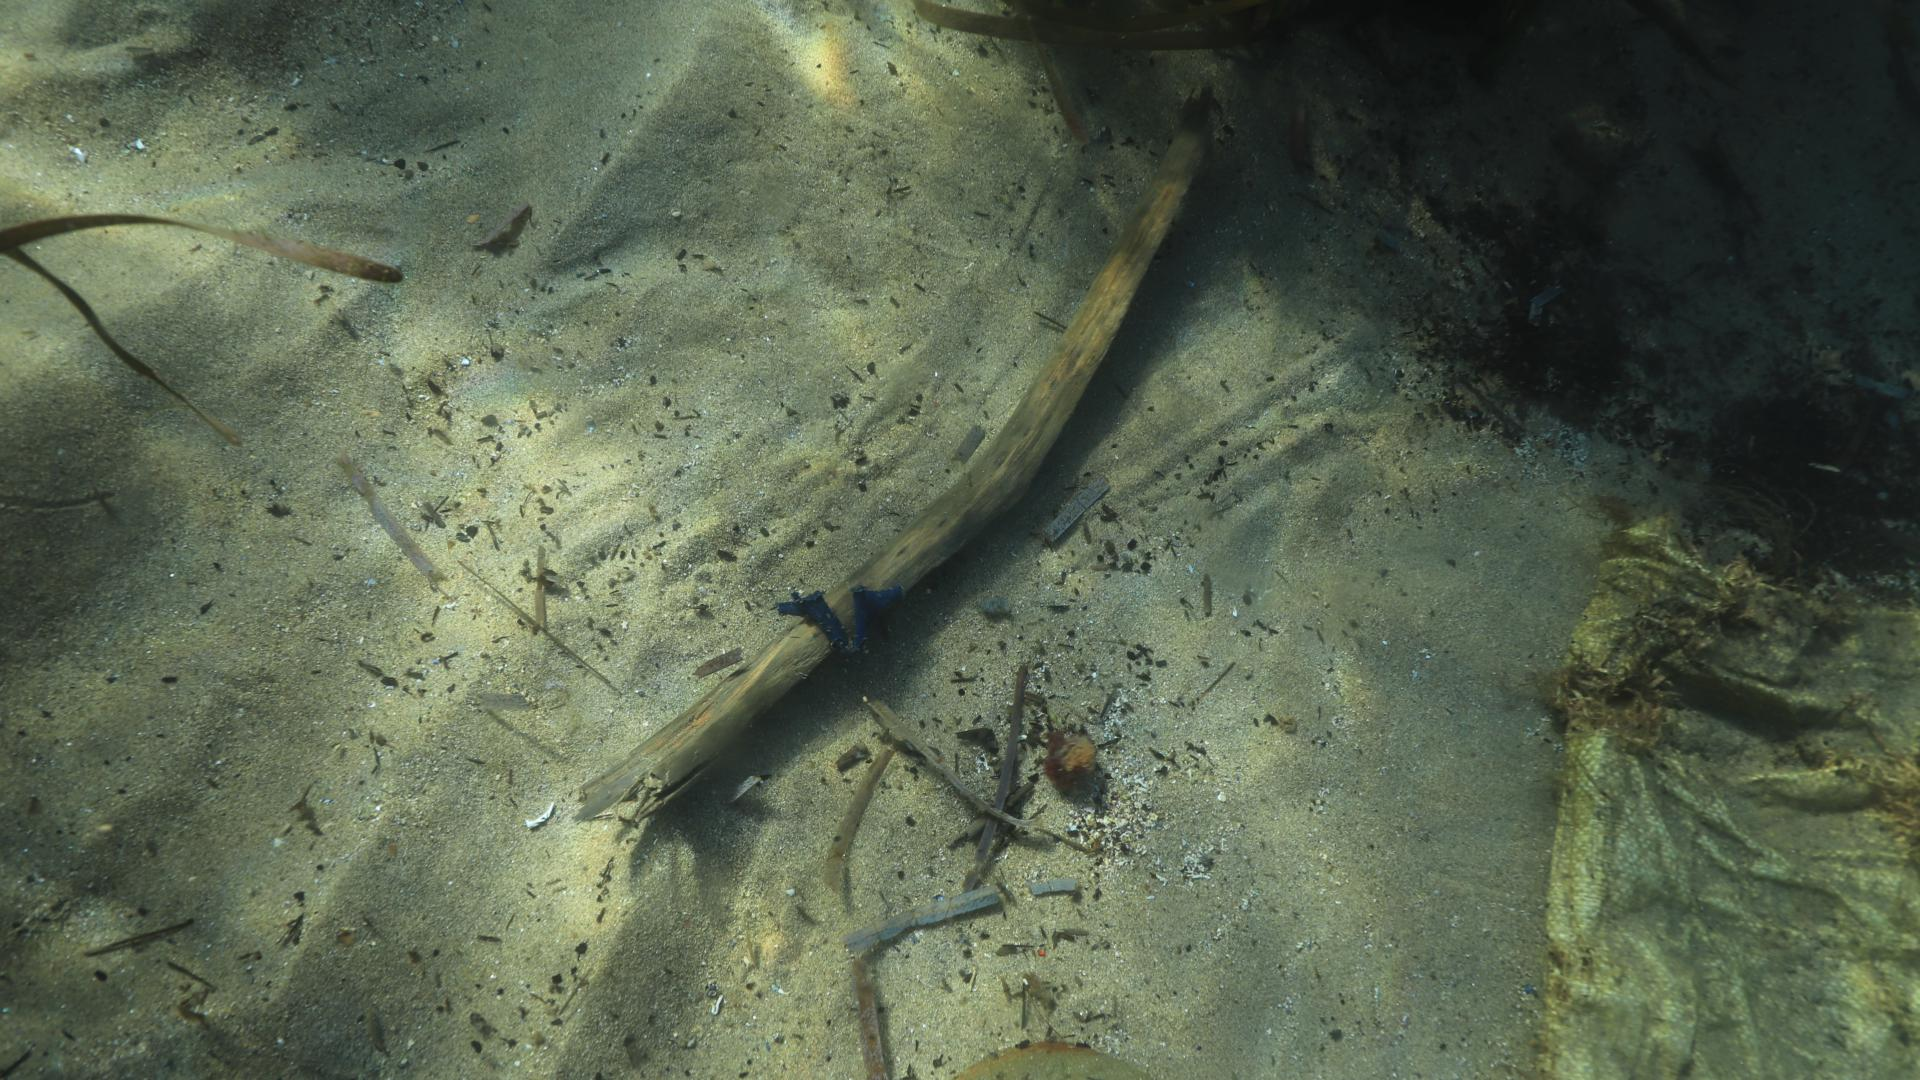wood: (578, 124, 1208, 820)
